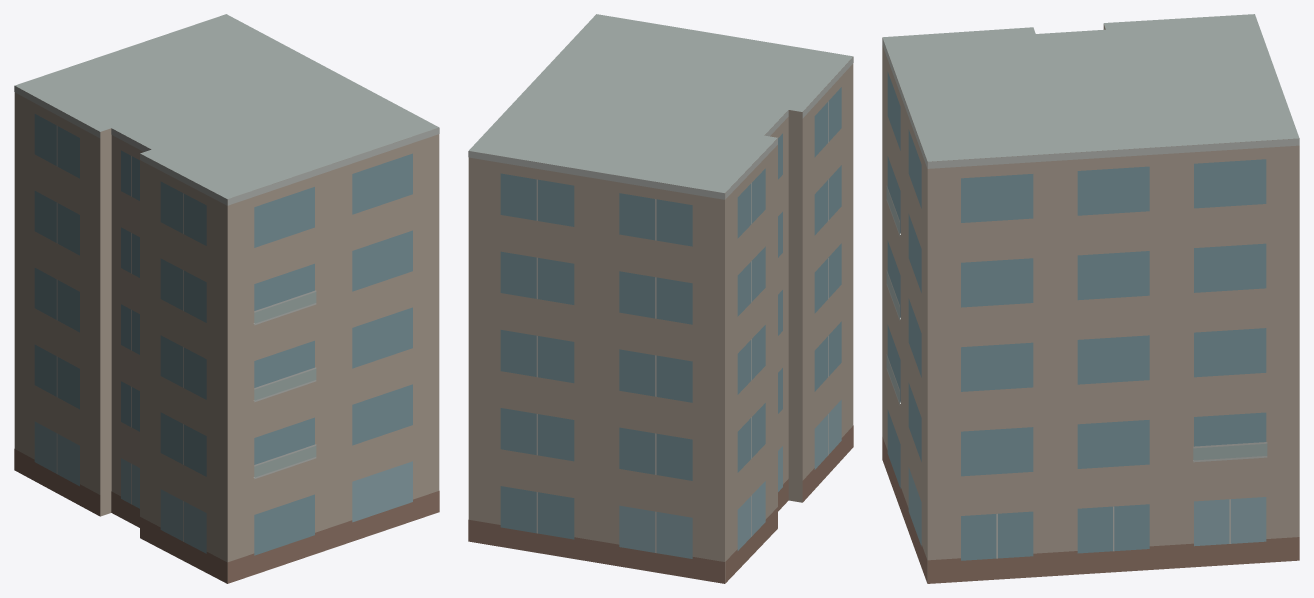
Rendered from survey-upis-32746718.glb.
The picture shows the model from 3 angles, left to right: view 1: azimuth 30°, elevation 25°; view 2: azimuth 150°, elevation 25°; view 3: azimuth 270°, elevation 25°; orthographic projection. The views are drawn at different scales.
Parts seen in each view (by area): view 1: survey-upis-32746718.tmp; view 2: survey-upis-32746718.tmp; view 3: survey-upis-32746718.tmp.
Part boxes in pixels (left/top/right/bottom): survey-upis-32746718.tmp: left=14, top=14, right=439, bottom=583; survey-upis-32746718.tmp: left=468, top=14, right=853, bottom=583; survey-upis-32746718.tmp: left=882, top=14, right=1299, bottom=583.
Size of the model in its own units: 10.74 by 14.3 by 12.82.
